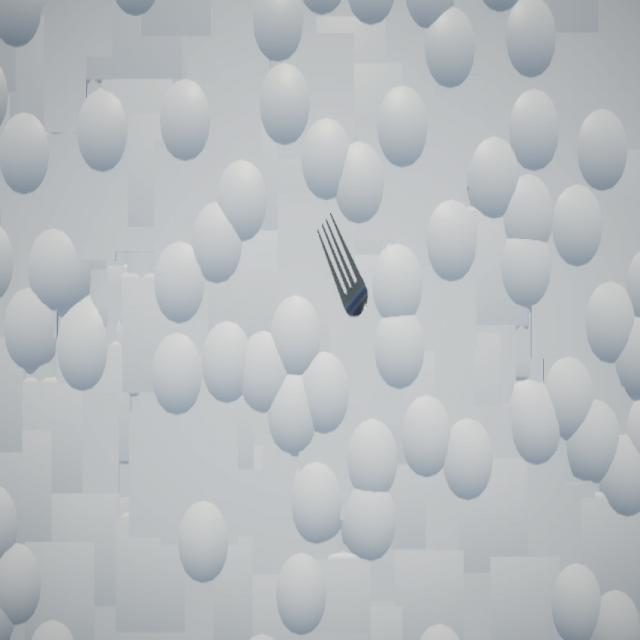top_folk: (318, 215, 370, 318)
